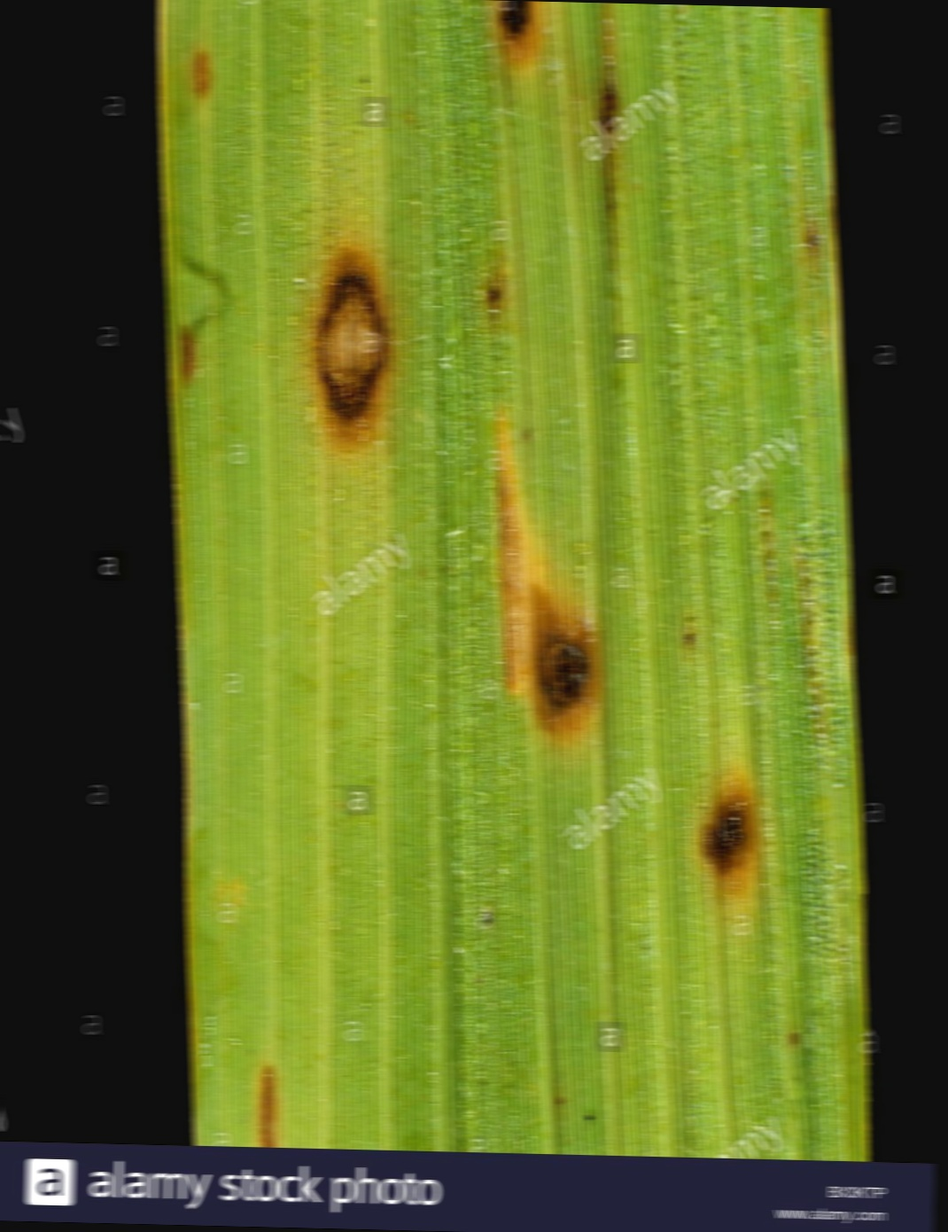Bacterial_Leaf_Blight: (463, 499, 622, 743), (295, 231, 425, 462), (688, 758, 773, 929), (483, 2, 570, 101), (237, 1045, 311, 1153), (167, 317, 219, 403), (177, 32, 213, 108), (476, 245, 509, 326)
